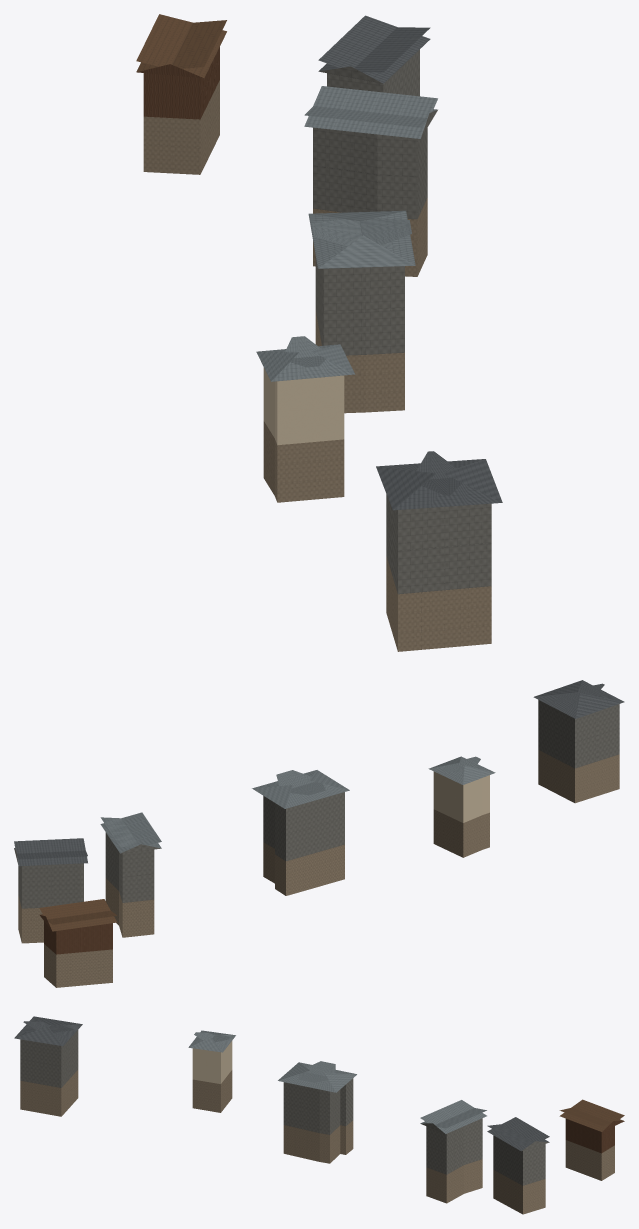
File: bld_c28_-54_549.gltf
The picture shows the model from 3 angles, top to bottom: view 1: azimuth 30°, elevation 25°; view 2: azimuth 150°, elevation 25°; view 3: azimuth 270°, elevation 25°; orthographic projection. The views are drawn at different scales.
Visible parts, largest first — view 1: bld_c28_-54_549; view 2: bld_c28_-54_549; view 3: bld_c28_-54_549.
Part boxes in pixels (x1,y1,x2,y2): bld_c28_-54_549: (136,14,502,651); bld_c28_-54_549: (14,680,624,987); bld_c28_-54_549: (14,1016,624,1214).
Size of the model in its own units: 48.69 by 14.9 by 98.08.
9 materials, 9 textured.
